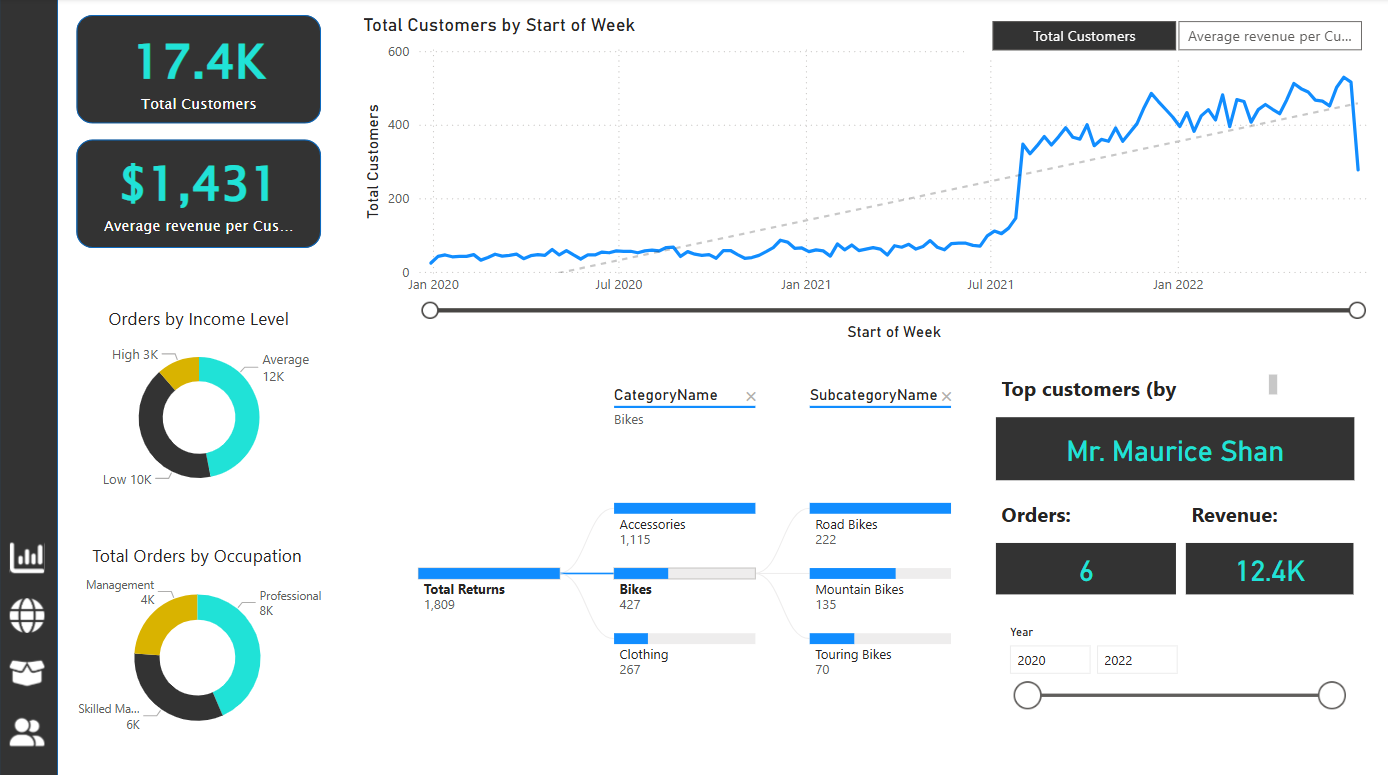

Layout of this report page (visuals, bound fields, positions):
{"tool":"powerbi","page":{"name":"Customer Details","canvas":[1280,720],"ordinal":3},"visuals":[{"type":"shape","box":[0,0,54.5,719.1],"z":0},{"type":"card","fields":{"Values":["Measurable Table.Total Customers"]},"box":[89,1.8,188.9,127.1],"z":0,"group":"g3"},{"type":"shape","box":[70.8,14.5,225.2,99.9],"z":0,"group":"g2"},{"type":"actionButton","box":[5.4,495.8,99.9,40],"z":0,"group":"g4"},{"type":"group","id":"g1","title":"KPI's","box":[70.8,1.8,225.2,239.7],"z":1000},{"type":"group","id":"g2","title":"KPI label","box":[70.8,14.5,225.2,214.3],"z":1000,"group":"g1"},{"type":"card","fields":{"Values":["Measurable Table.Average revenue per Customer"]},"box":[89,114.4,188.9,127.1],"z":1000,"group":"g3"},{"type":"shape","box":[70.8,128.9,225.2,99.9],"z":1000,"group":"g2"},{"type":"actionButton","box":[5.4,549.1,99.9,40],"z":1000,"group":"g4"},{"type":"group","id":"g3","title":"KPI value","box":[89,1.8,188.9,239.7],"z":2000,"group":"g1"},{"type":"lineChart","fields":{"Y":["Measurable Table.Total Customers"],"Category":["Calendar Lookup.Date Hirearchy.Start of Year","Calendar Lookup.Date Hirearchy.Start of Month","Calendar Lookup.Date Hirearchy.Start of Week","Calendar Lookup.Date Hirearchy.Date"]},"box":[330.8,14.1,948.8,305.2],"z":2000},{"type":"actionButton","box":[5.4,602.3,99.9,40],"z":2000,"group":"g4"},{"type":"donutChart","title":"Orders by Income Level","fields":{"Y":["Measurable Table.Total Orders"],"Category":["Customer Lookup.Income Level"]},"box":[70.8,283.3,225.2,183.4],"z":3000},{"type":"actionButton","box":[5.4,655.6,99.9,40],"z":3000,"group":"g4"},{"type":"donutChart","fields":{"Y":["Measurable Table.Total Orders"],"Category":["Customer Lookup.Occupation"]},"box":[61.7,501.2,241.5,188.9],"z":4000},{"type":"card","fields":{"Values":["Calendar Lookup.Full Name (HASONEVALUE)"]},"box":[916.8,385.9,329.5,57.7],"z":5000},{"type":"card","fields":{"Values":["Measurable Table.Total revenue (HASONEVALUE)"]},"box":[1092.4,501.3,153.9,47.4],"z":6000},{"type":"card","fields":{"Values":["Measurable Table.Total orders (HASONEVALUE)"]},"box":[916.8,501.3,165.4,47.4],"z":7000},{"type":"textbox","box":[916.8,341.1,264.1,39.7],"z":8000},{"type":"textbox","box":[916.8,456.5,157.7,39.7],"z":9000},{"type":"textbox","box":[1092.4,456.5,115.4,39.7],"z":10000},{"type":"slicer","fields":{"Values":["Calendar Lookup.Year"]},"box":[916.8,571.9,329.5,103.9],"z":11000},{"type":"group","id":"g4","title":"Navigation button","box":[5.4,495.8,99.9,199.8],"z":12000},{"type":"slicer","fields":{"Values":["Customer metric selection.Customer metric selection"]},"box":[888.6,14.1,389.8,39.7],"z":13000},{"type":"decompositionTreeVisual","fields":{"ExplainBy":["Product Categories Lookup.CategoryName","Product Subcategories Lookup.SubcategoryName","Product Lookup.ProductName"],"Analyze":["Measurable Table.Total Returns"]},"box":[355.2,339.8,533.4,356.5],"z":14000}]}

Visuals, with their boxes on the page's 1280x720 design canvas (x1, y1, x2, y2). These are canvas units, not pixel positions in the 1388x775 screenshot, which may show the page scaled, cropped or inside an application window:
shape: bbox=[0, 0, 54, 719]
card - Measurable Table.Total Customers: bbox=[89, 2, 278, 129]
shape: bbox=[71, 14, 296, 114]
actionButton: bbox=[5, 496, 105, 536]
"KPI's" group: bbox=[71, 2, 296, 242]
"KPI label" group: bbox=[71, 14, 296, 229]
card - Measurable Table.Average revenue per Customer: bbox=[89, 114, 278, 242]
shape: bbox=[71, 129, 296, 229]
actionButton: bbox=[5, 549, 105, 589]
"KPI value" group: bbox=[89, 2, 278, 242]
lineChart - Measurable Table.Total Customers x Calendar Lookup.Date Hirearchy.Start of Year: bbox=[331, 14, 1280, 319]
actionButton: bbox=[5, 602, 105, 642]
"Orders by Income Level" donutChart: bbox=[71, 283, 296, 467]
actionButton: bbox=[5, 656, 105, 696]
donutChart - Measurable Table.Total Orders x Customer Lookup.Occupation: bbox=[62, 501, 303, 690]
card - Calendar Lookup.Full Name (HASONEVALUE): bbox=[917, 386, 1246, 444]
card - Measurable Table.Total revenue (HASONEVALUE): bbox=[1092, 501, 1246, 549]
card - Measurable Table.Total orders (HASONEVALUE): bbox=[917, 501, 1082, 549]
textbox: bbox=[917, 341, 1181, 381]
textbox: bbox=[917, 456, 1074, 496]
textbox: bbox=[1092, 456, 1208, 496]
slicer - Calendar Lookup.Year: bbox=[917, 572, 1246, 676]
"Navigation button" group: bbox=[5, 496, 105, 696]
slicer - Customer metric selection.Customer metric selection: bbox=[889, 14, 1278, 54]
decompositionTreeVisual - Product Categories Lookup.CategoryName x Product Subcategories Lookup.SubcategoryName: bbox=[355, 340, 889, 696]
